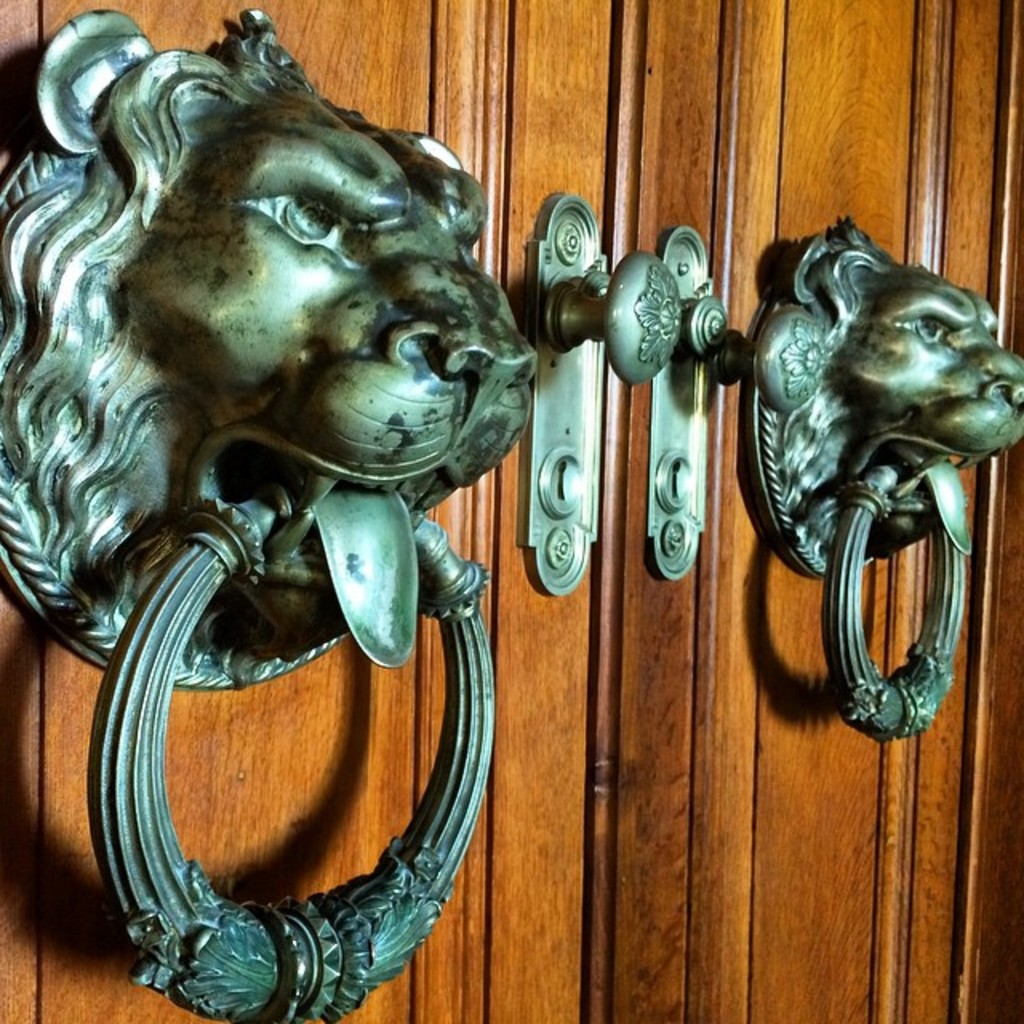door: (38, 43, 594, 1024), (621, 98, 1022, 1024)
handle: (110, 526, 498, 1024), (834, 448, 964, 761), (571, 235, 676, 400), (683, 296, 745, 391)
